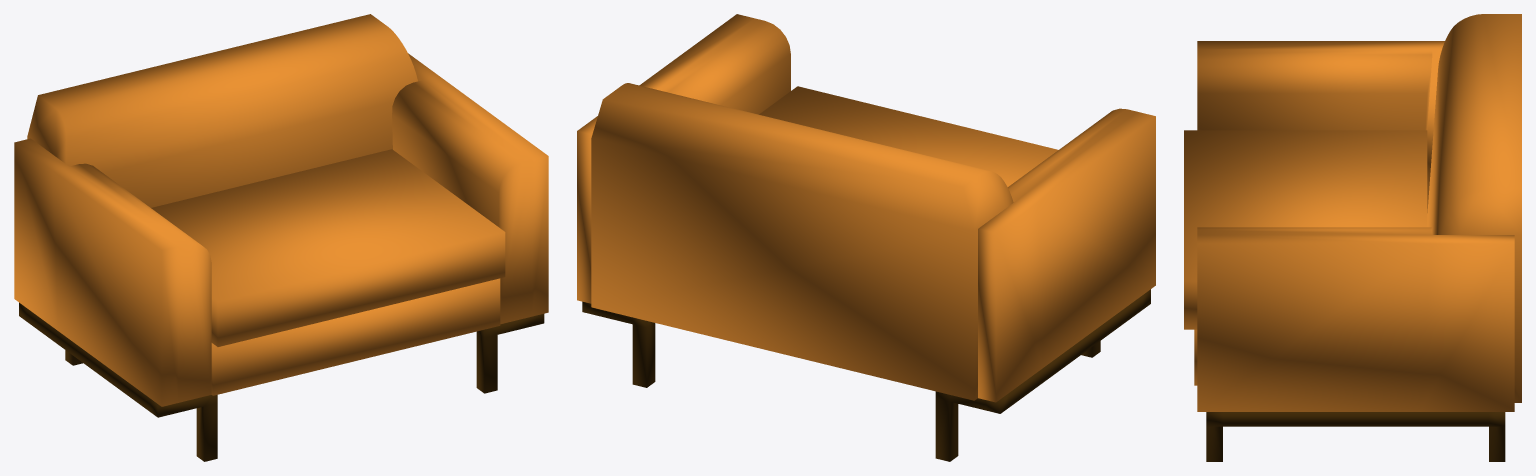
File: lowpoly_smallSofa.fbx
3 views of the same model, side by side, from view 1: azimuth 30°, elevation 25°; view 2: azimuth 150°, elevation 25°; view 3: azimuth 270°, elevation 25° (orthographic). The views are drawn at different scales.
Parts seen in each view (by area): view 1: petitSofa; view 2: petitSofa; view 3: petitSofa.
Boxes of the visible parts, <box> form: petitSofa: <box>14,14,548,461</box>; petitSofa: <box>577,14,1155,461</box>; petitSofa: <box>1184,14,1521,461</box>.
Bounding box in the file's own units: 116 × 76 × 82.
